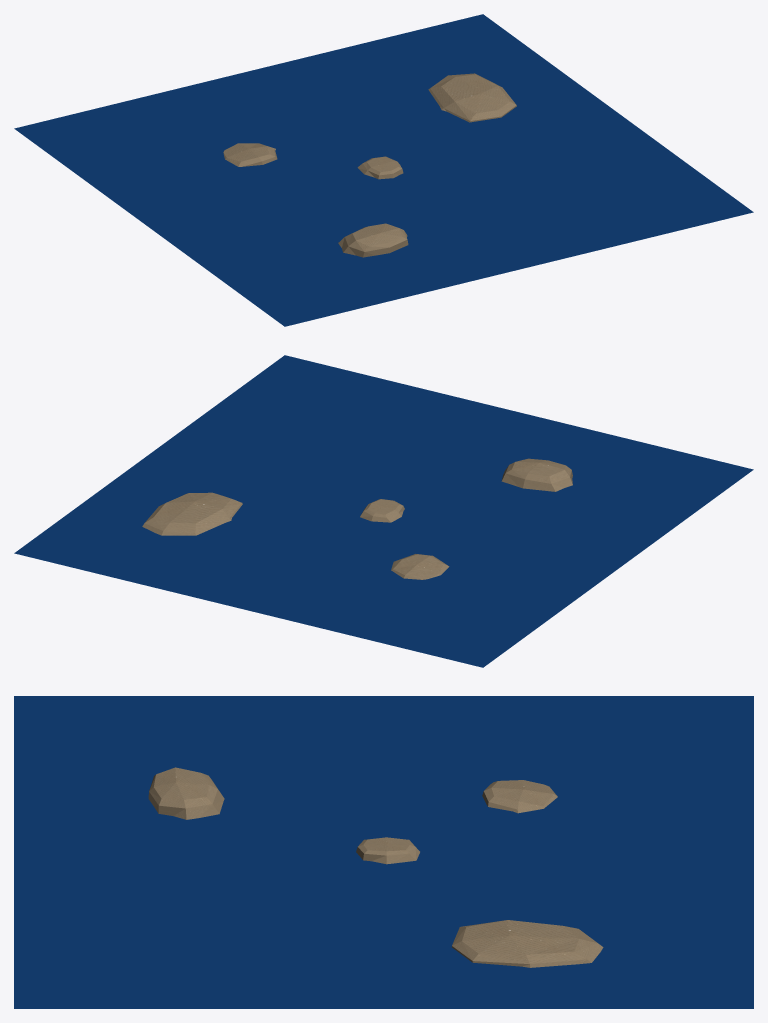
Rendered from island.obj.
3 renders of one model, top to bottom at view 1: azimuth 30°, elevation 25°; view 2: azimuth 150°, elevation 25°; view 3: azimuth 270°, elevation 25°, orthographic. The views are drawn at different scales.
Visible parts, largest first — view 1: Plane_Plane.004, Cube.001_Cube.022, Cube.000_Cube.021, Cube.002_Cube.023, Cube.008_Cube.020; view 2: Plane_Plane.004, Cube.001_Cube.022, Cube.000_Cube.021, Cube.002_Cube.023, Cube.008_Cube.020; view 3: Plane_Plane.004, Cube.001_Cube.022, Cube.000_Cube.021, Cube.002_Cube.023, Cube.008_Cube.020.
Part boxes in pixels (<box>): Plane_Plane.004: <box>14,14,753,326</box>; Cube.001_Cube.022: <box>428,73,516,122</box>; Cube.000_Cube.021: <box>338,223,408,257</box>; Cube.002_Cube.023: <box>223,143,277,166</box>; Cube.008_Cube.020: <box>357,156,403,179</box>; Plane_Plane.004: <box>14,355,753,667</box>; Cube.001_Cube.022: <box>142,492,242,535</box>; Cube.000_Cube.021: <box>501,458,572,491</box>; Cube.002_Cube.023: <box>391,554,449,579</box>; Cube.008_Cube.020: <box>360,499,404,522</box>; Plane_Plane.004: <box>14,696,753,1008</box>; Cube.001_Cube.022: <box>452,920,603,967</box>; Cube.000_Cube.021: <box>148,767,224,819</box>; Cube.002_Cube.023: <box>482,780,557,813</box>; Cube.008_Cube.020: <box>356,837,419,864</box>.
Size of the model in its own units: 331 by 18.99 by 331.
2 materials, 1 textured.
